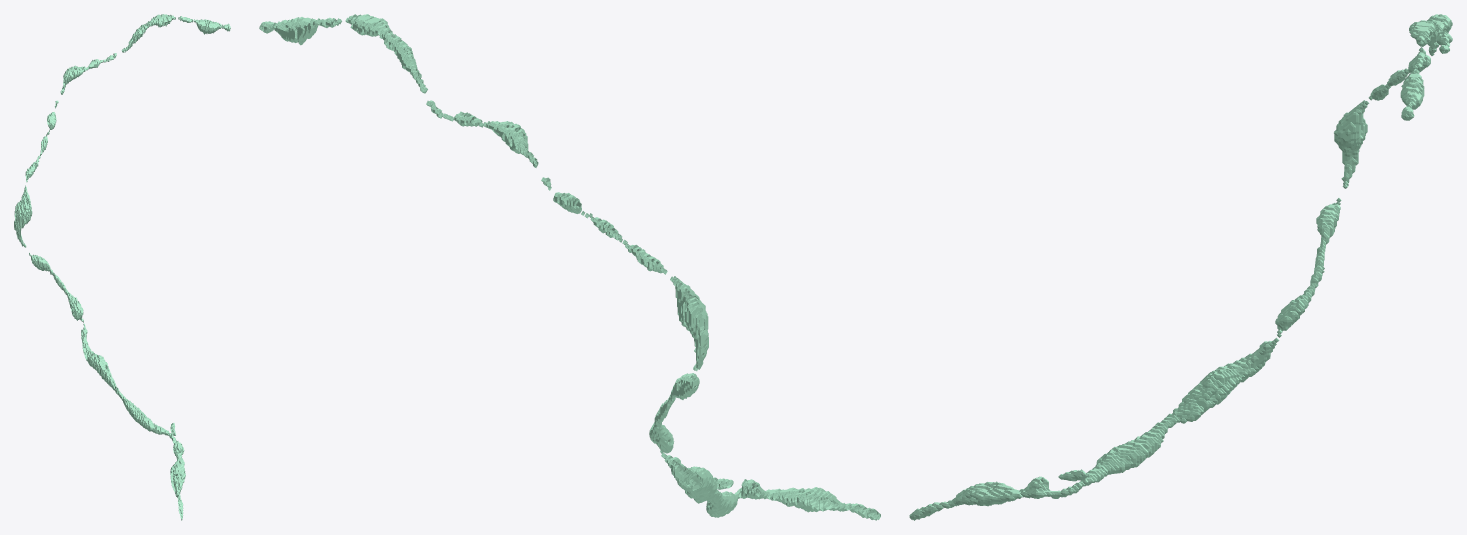
The model's file is SVV_ASIL.gltf.
3 renders of one model, left to right at view 1: azimuth 30°, elevation 25°; view 2: azimuth 150°, elevation 25°; view 3: azimuth 270°, elevation 25°, orthographic. The views are drawn at different scales.
Parts seen in each view (by area): view 1: ASIL; view 2: ASIL; view 3: ASIL.
Part boxes in pixels (bbox=[...]): ASIL: bbox=[14, 14, 230, 520]; ASIL: bbox=[259, 14, 880, 520]; ASIL: bbox=[909, 14, 1452, 520].
Bounding box in the file's own units: 111775 × 165560 × 135392.
